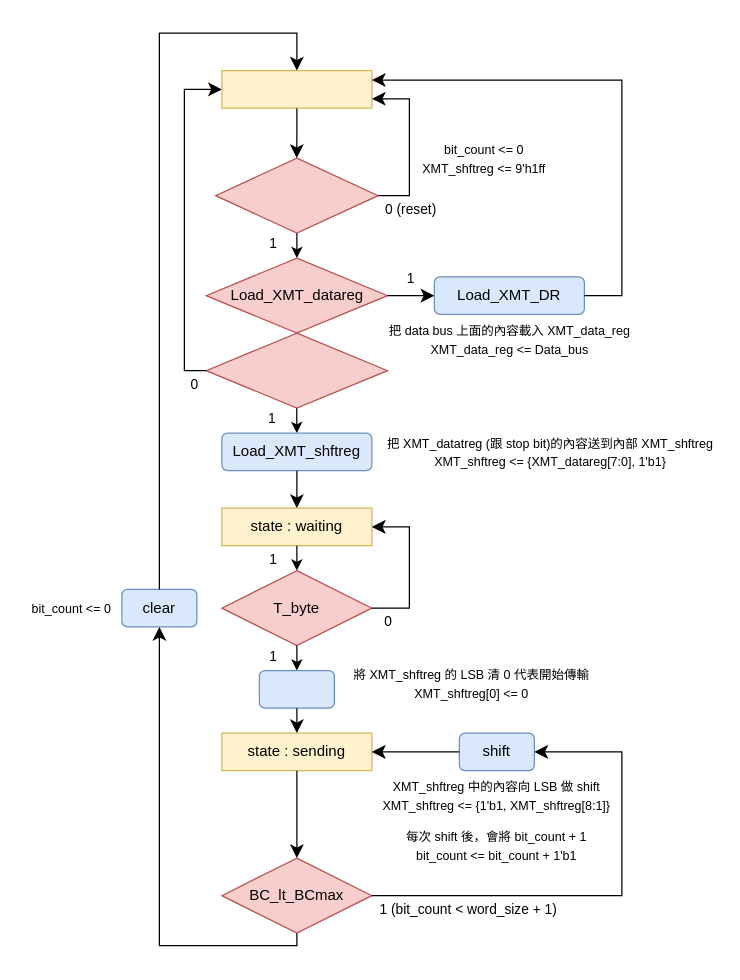
This 740x980 diagram has some shape labels left out. Each missing label, with the centre of its shape:
"Byte_ready" goes at (x=296, y=370).
"rst_b" goes at (x=296, y=195).
"start" goes at (x=296, y=688).
"state : idle" goes at (x=296, y=88).
